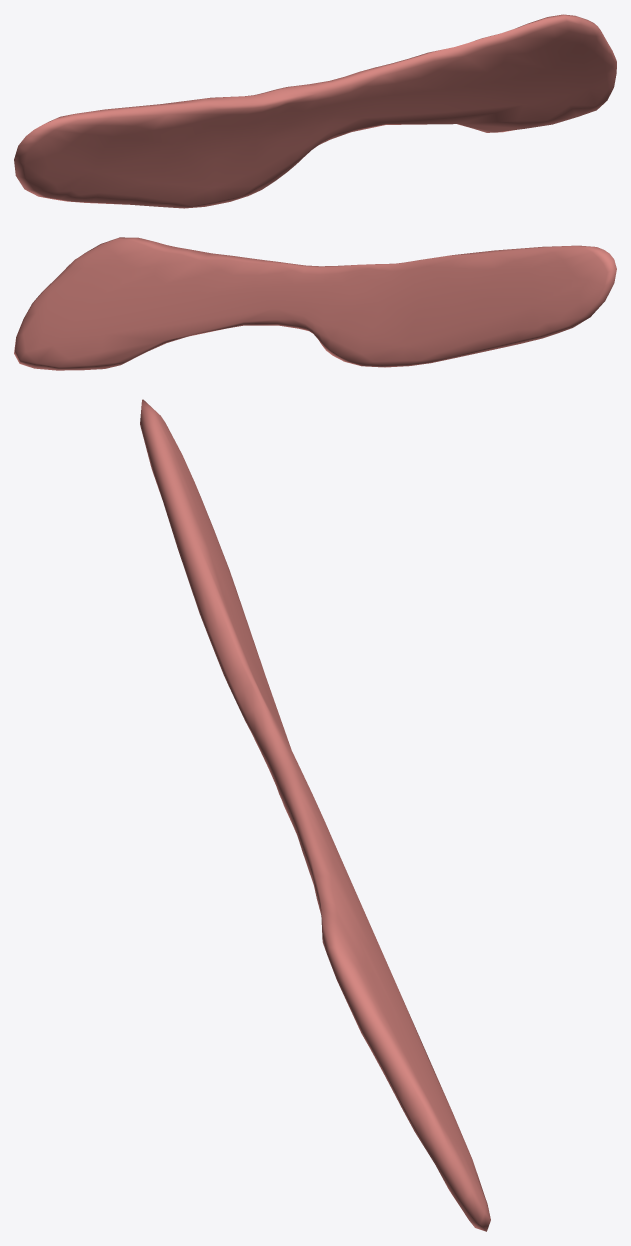
3 renders of one model, top to bottom at view 1: azimuth 30°, elevation 25°; view 2: azimuth 150°, elevation 25°; view 3: azimuth 270°, elevation 25°, orthographic. The views are drawn at different scales.
Parts seen in each view (by area): view 1: ZA_961d6e4b7cc95e00; view 2: ZA_961d6e4b7cc95e00; view 3: ZA_961d6e4b7cc95e00.
Part boxes in pixels (<box>): ZA_961d6e4b7cc95e00: <box>14,14,616,208</box>; ZA_961d6e4b7cc95e00: <box>14,237,616,370</box>; ZA_961d6e4b7cc95e00: <box>140,399,490,1231</box>.
Size of the model in its own units: 0.023 by 0.00736 by 0.00668.
